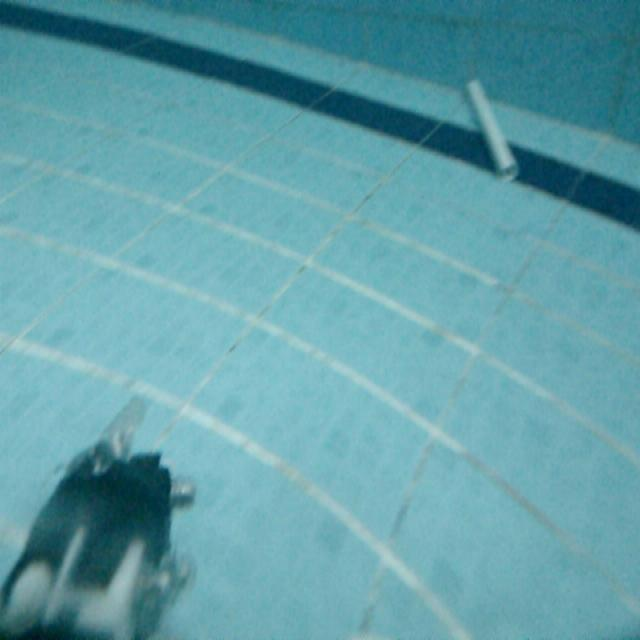Cube: (462, 76, 520, 185)
